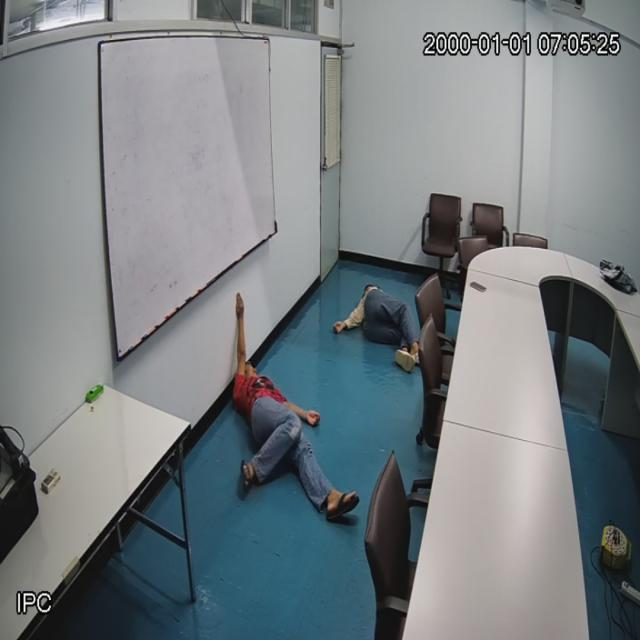fall: (232, 357, 344, 523), (335, 283, 414, 362)
